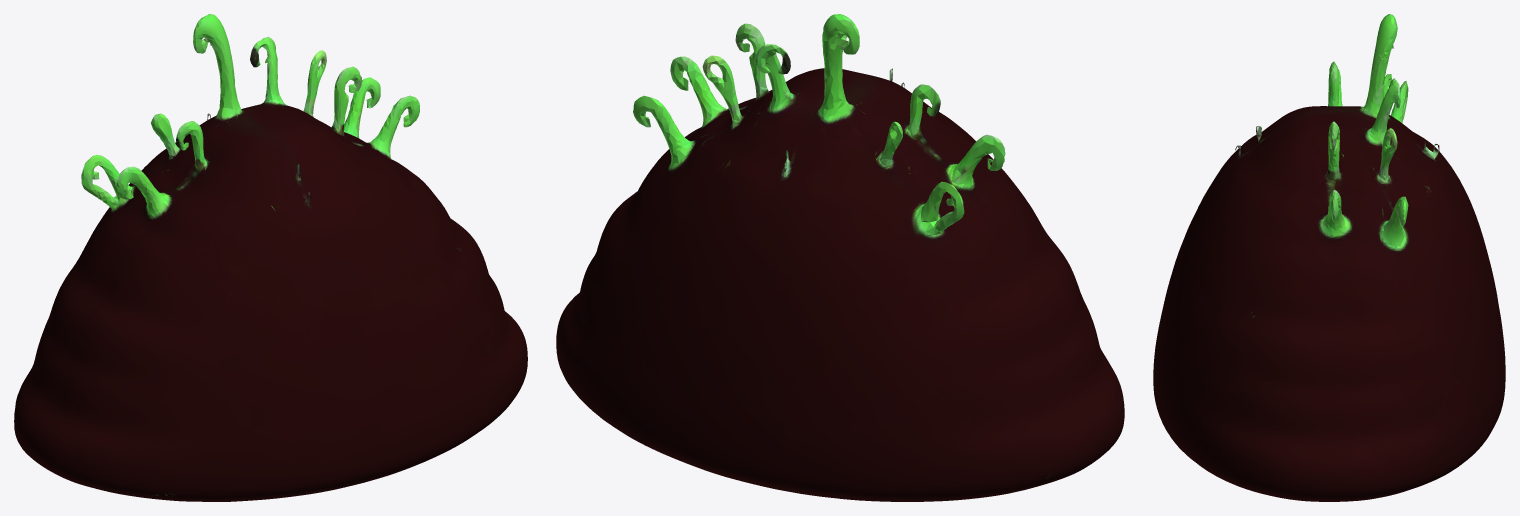
File: Node_CarbonBiomass.glb
3 views of the same model, side by side, from view 1: azimuth 30°, elevation 25°; view 2: azimuth 150°, elevation 25°; view 3: azimuth 270°, elevation 25° (orthographic). The views are drawn at different scales.
Visible parts, largest first — view 1: Node_CarbonBiomass; view 2: Node_CarbonBiomass; view 3: Node_CarbonBiomass.
Boxes of the visible parts, box(x1,y1,x2,y2) form: Node_CarbonBiomass: box(14, 14, 527, 501); Node_CarbonBiomass: box(556, 14, 1124, 501); Node_CarbonBiomass: box(1153, 14, 1505, 501).
Size of the model in its own units: 1.89 by 1.61 by 1.26.
1 material, 1 textured.
